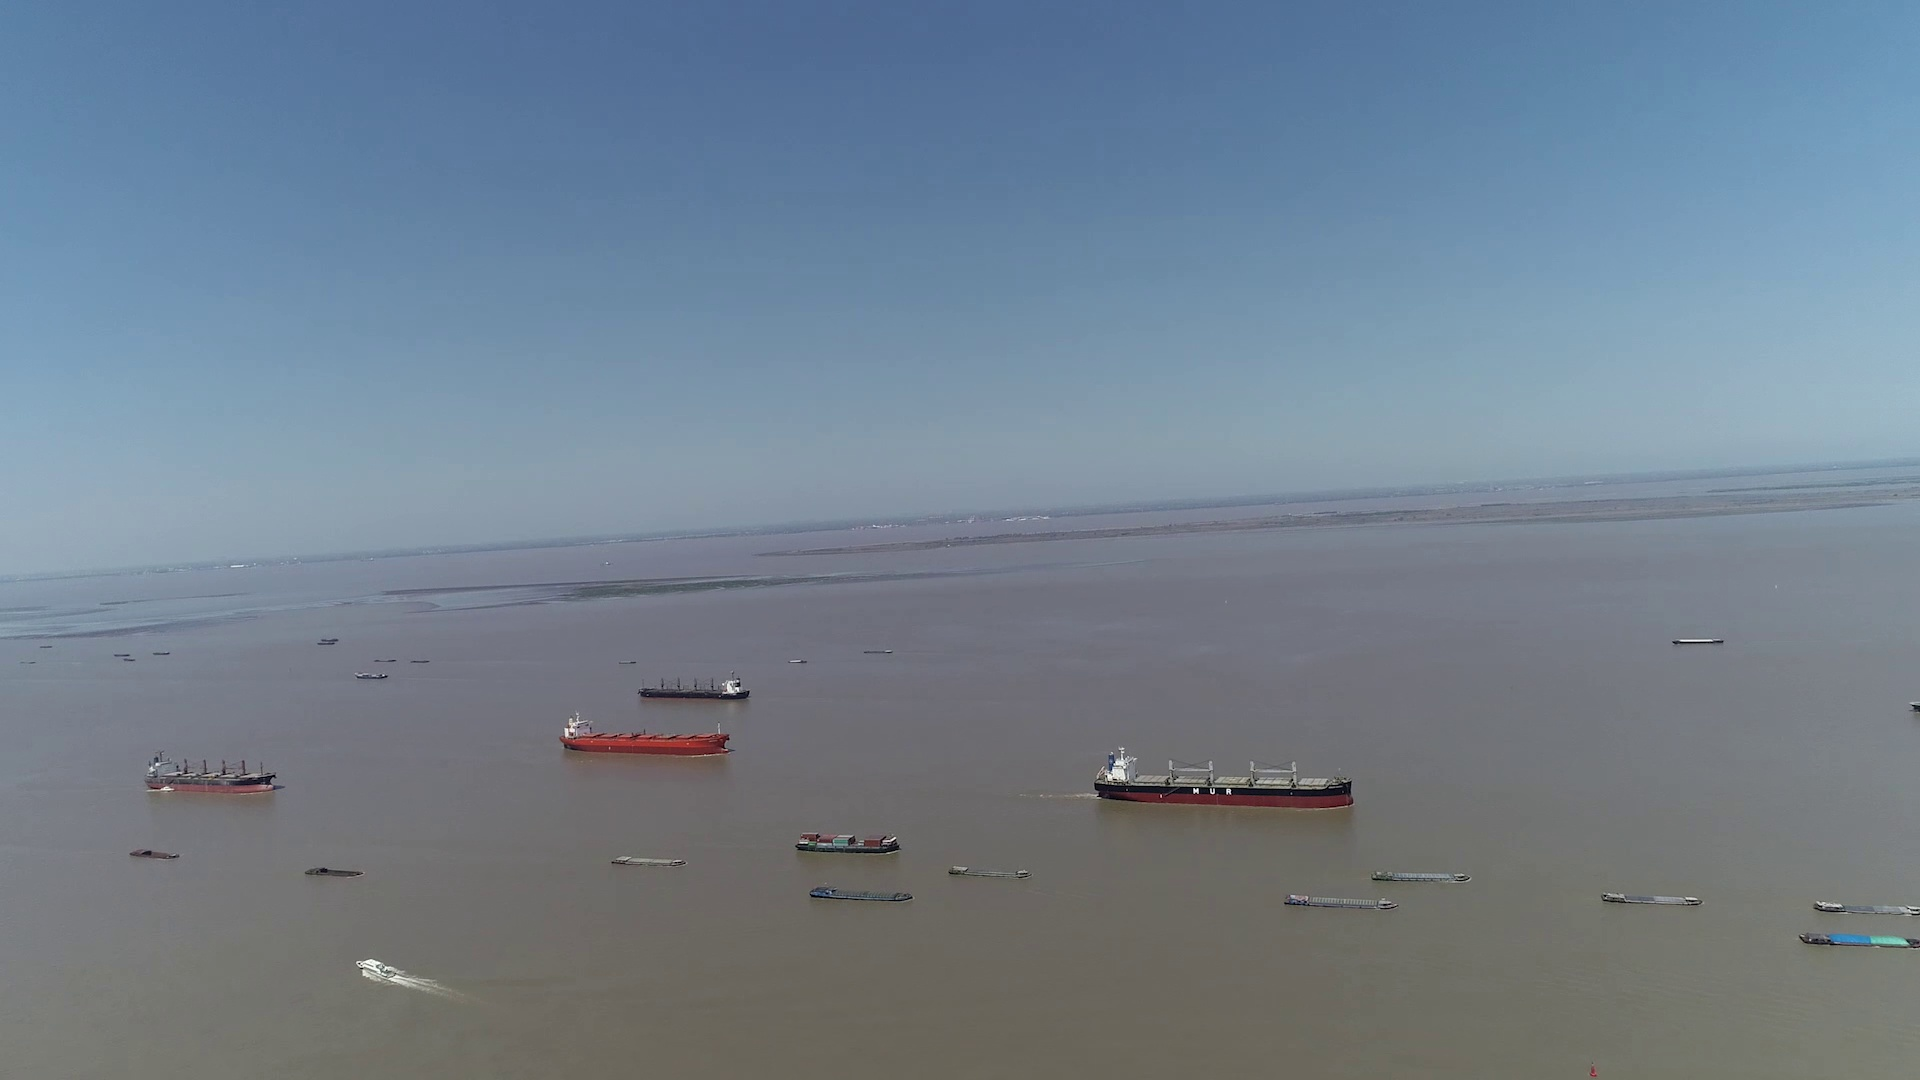ship: (1095, 744, 1353, 808), (559, 713, 731, 756), (145, 748, 280, 795), (796, 829, 899, 855), (638, 676, 752, 699), (1286, 891, 1400, 910), (1815, 899, 1917, 916), (808, 886, 910, 903), (1803, 932, 1920, 947), (1374, 866, 1466, 884), (1604, 890, 1701, 906), (353, 959, 414, 982), (947, 862, 1033, 878), (611, 853, 684, 866), (306, 865, 365, 877), (127, 849, 179, 858), (1673, 637, 1722, 645), (353, 671, 390, 679)
